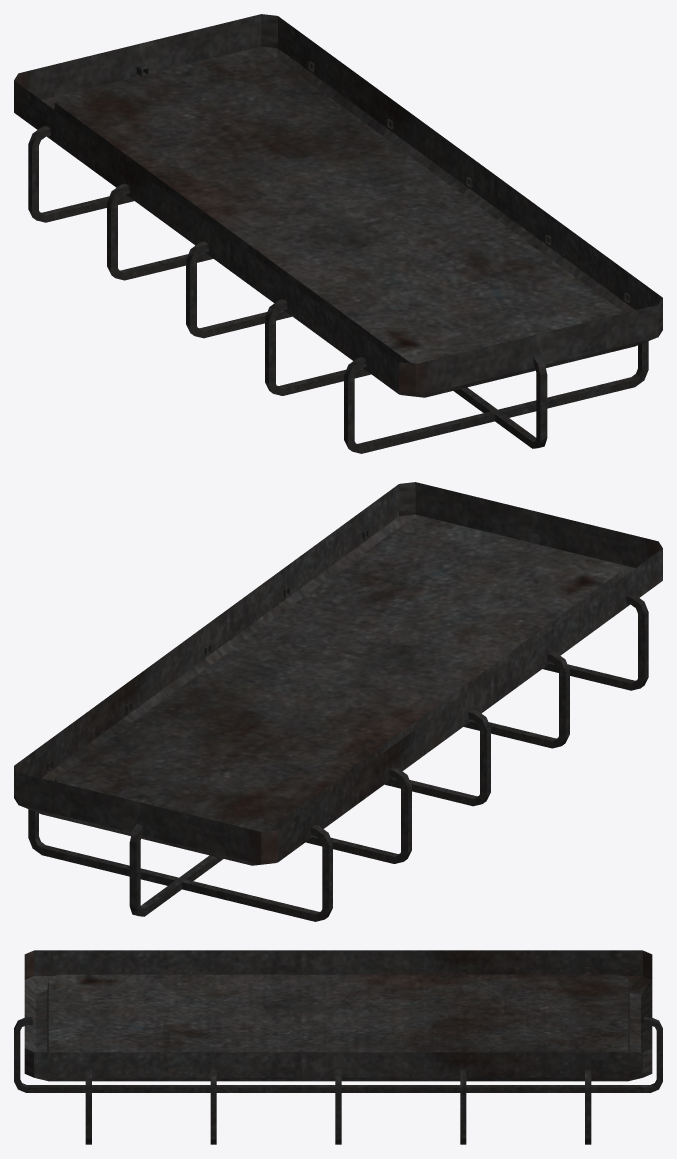
File: ceiling_lamp_2_on.dae
The picture shows the model from 3 angles, top to bottom: view 1: azimuth 30°, elevation 25°; view 2: azimuth 150°, elevation 25°; view 3: azimuth 270°, elevation 25°; orthographic projection. The views are drawn at different scales.
Parts seen in each view (by area): view 1: ceiling_lamp_2_on, ceiling_lamp_2_on_protector; view 2: ceiling_lamp_2_on, ceiling_lamp_2_on_protector; view 3: ceiling_lamp_2_on, ceiling_lamp_2_on_protector.
Part boxes in pixels (x1=…): ceiling_lamp_2_on: x1=14, y1=14, x2=662, y2=397; ceiling_lamp_2_on_protector: x1=28, y1=61, x2=648, y2=453; ceiling_lamp_2_on: x1=14, y1=482, x2=662, y2=865; ceiling_lamp_2_on_protector: x1=28, y1=529, x2=648, y2=921; ceiling_lamp_2_on: x1=24, y1=950, x2=652, y2=1081; ceiling_lamp_2_on_protector: x1=14, y1=967, x2=662, y2=1144.
Bounding box in the file's own units: 0.44 × 1.04 × 0.16.
Materials: 3 (3 with a texture image).
